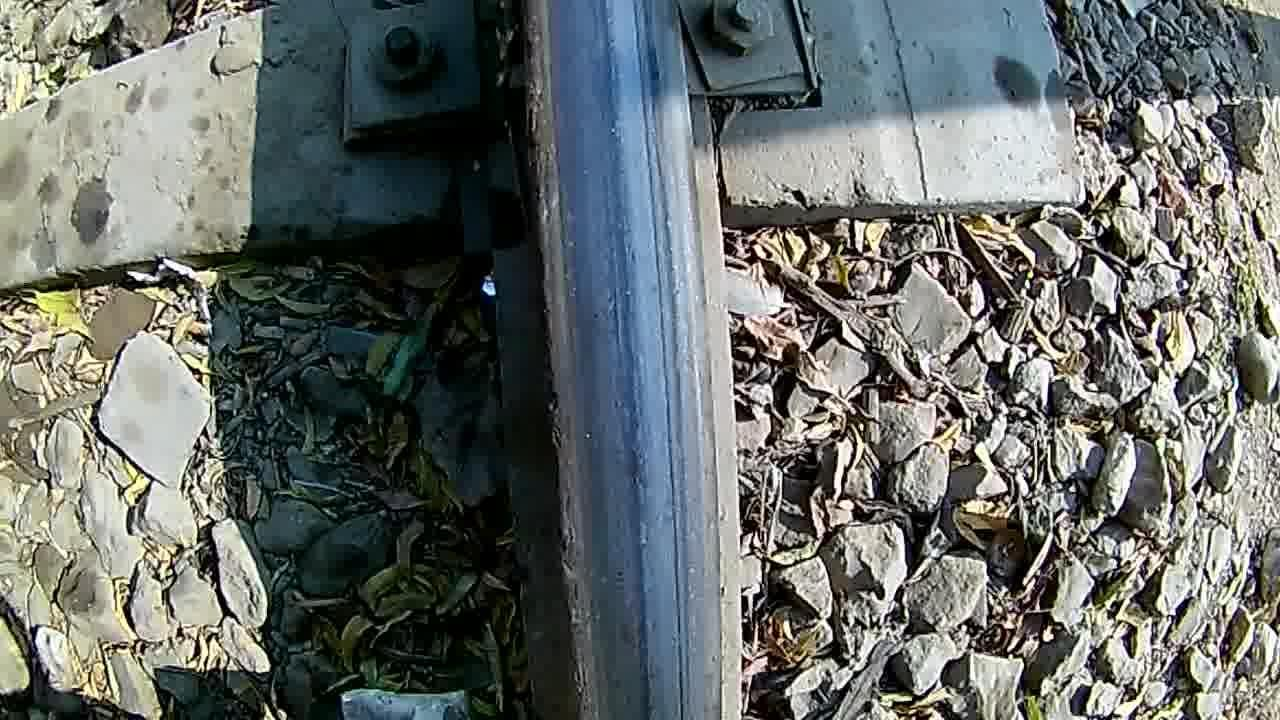crack: (517, 0, 735, 720)
